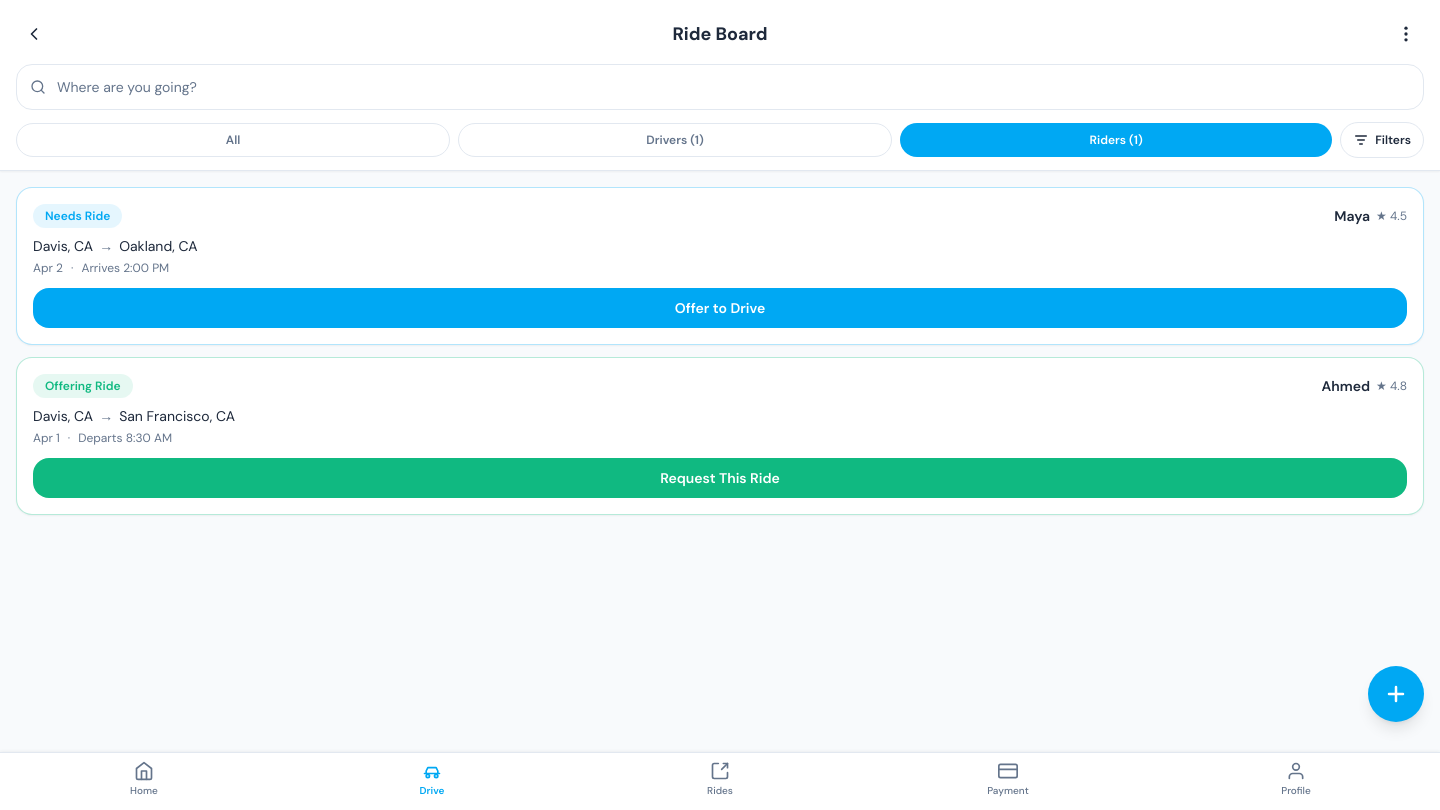
Scenario: RideBoard › opens confirmation sheet when contact button is clicked
Step 1. Click the button "Request This Ride" → x=720, y=478, box [33,458,1407,498]
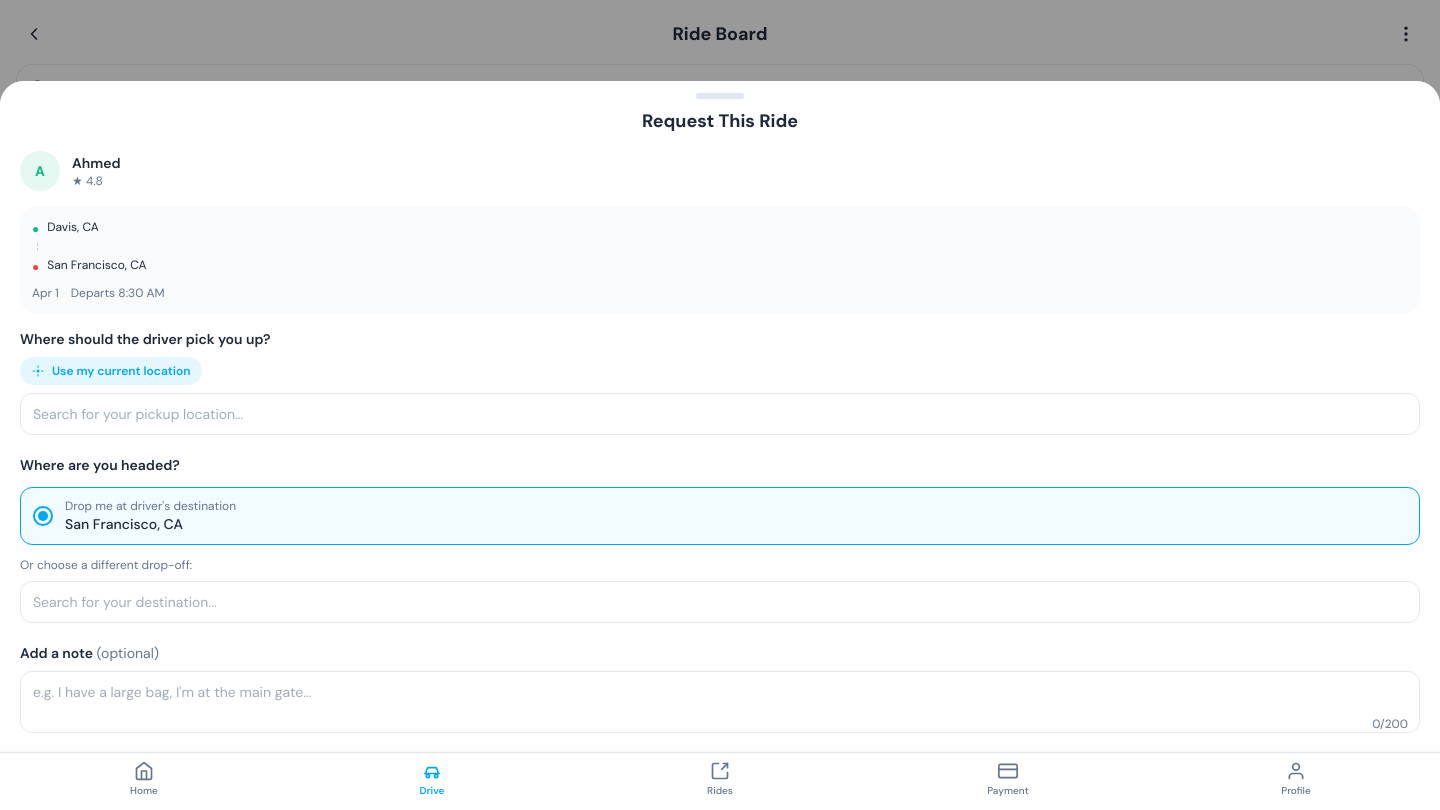
Expected: the element with test id "confirm-sheet" is shown
Expected: the field with test id "pickup-search" is shown, [20,393,1420,435]
Expected: the field with test id "destination-search" is shown, [20,581,1420,623]
